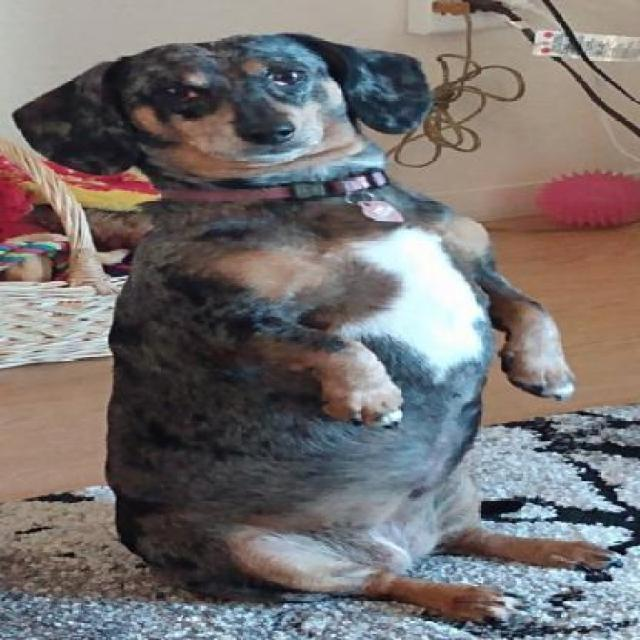Dog: (9, 31, 625, 629)
